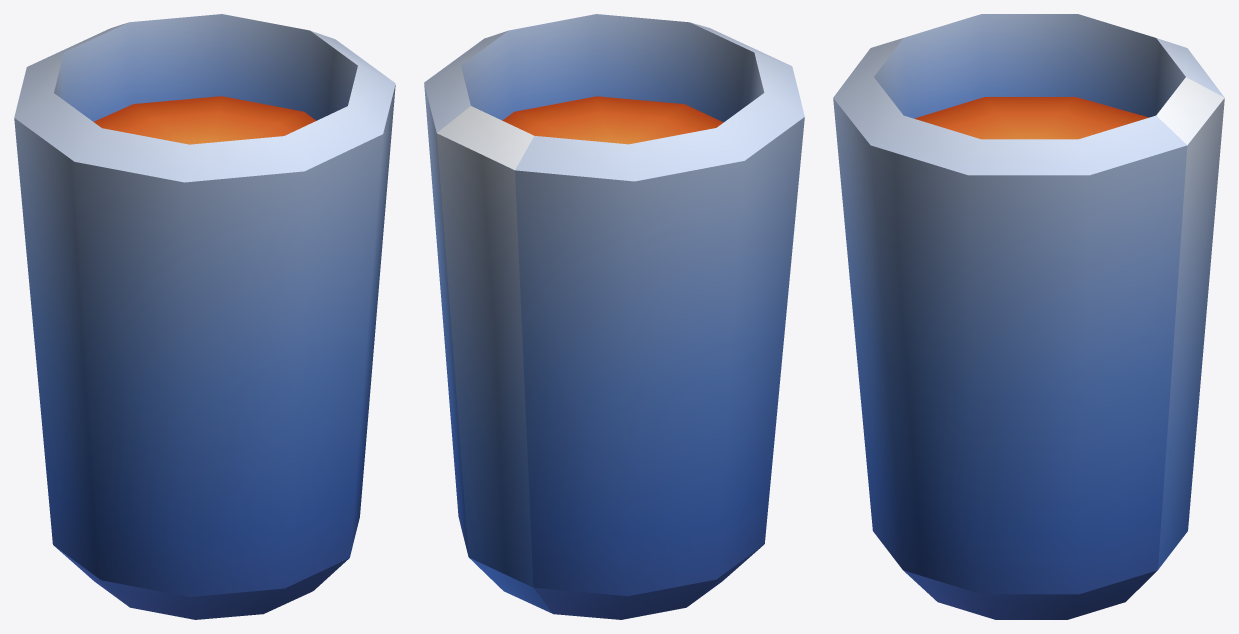
File: m_ShotGlass01.fbx
The picture shows the model from 3 angles, left to right: view 1: azimuth 30°, elevation 25°; view 2: azimuth 150°, elevation 25°; view 3: azimuth 270°, elevation 25°; orthographic projection.
Visible parts, largest first — view 1: m_ShotGlass01; view 2: m_ShotGlass01; view 3: m_ShotGlass01.
Part boxes in pixels (<box>): m_ShotGlass01: <box>14,14,395,619</box>; m_ShotGlass01: <box>424,14,804,619</box>; m_ShotGlass01: <box>833,14,1224,619</box>.
Size of the model in its own units: 8.18 by 12 by 8.6.
